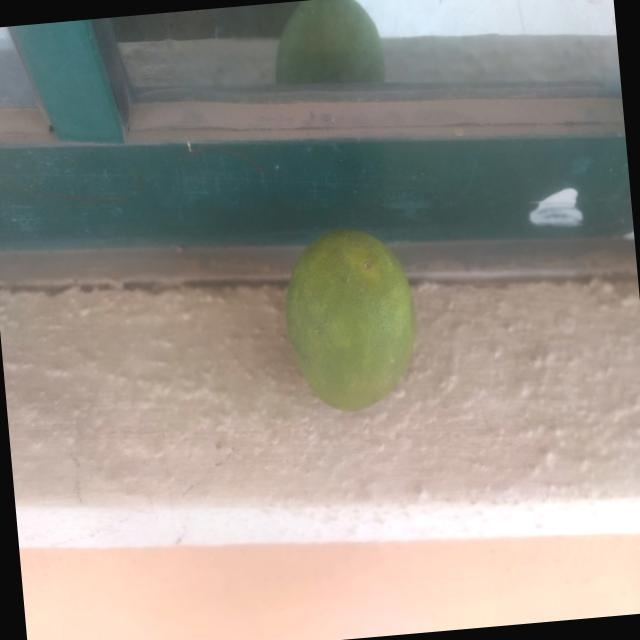agrume: (268, 171, 456, 461)
